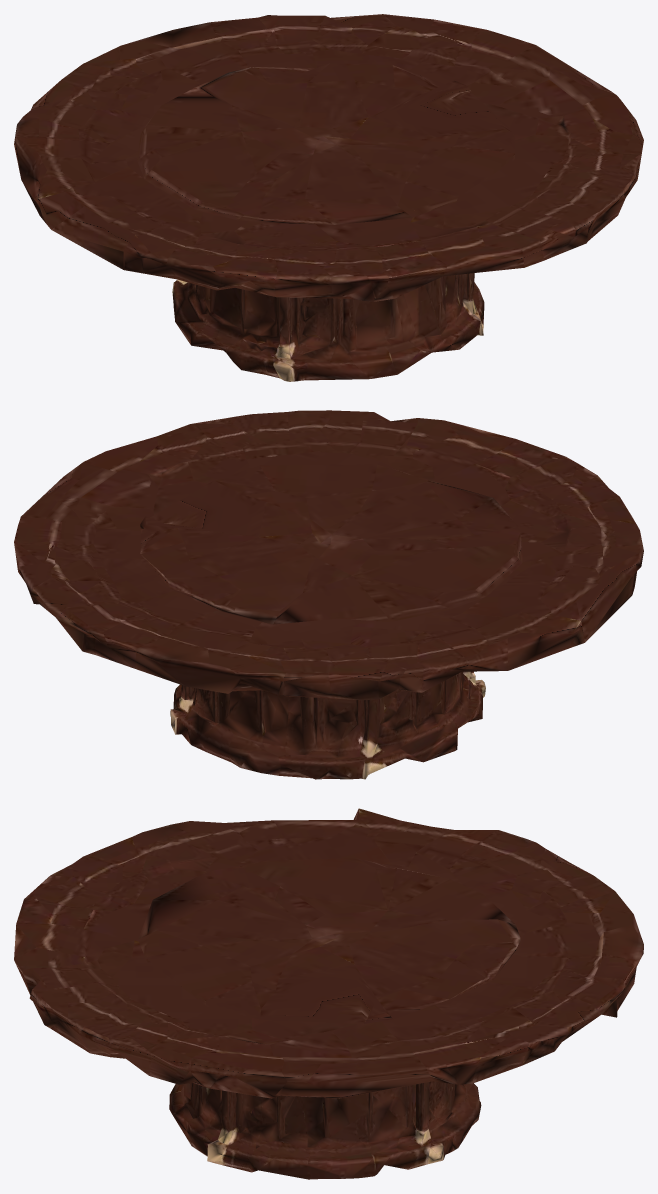
Rendered from pr_table_round.glb.
3 renders of one model, top to bottom at view 1: azimuth 30°, elevation 25°; view 2: azimuth 150°, elevation 25°; view 3: azimuth 270°, elevation 25°, orthographic.
Size of the model in its own units: 1.89 by 0.5809 by 1.88.
1 material, 1 textured.
